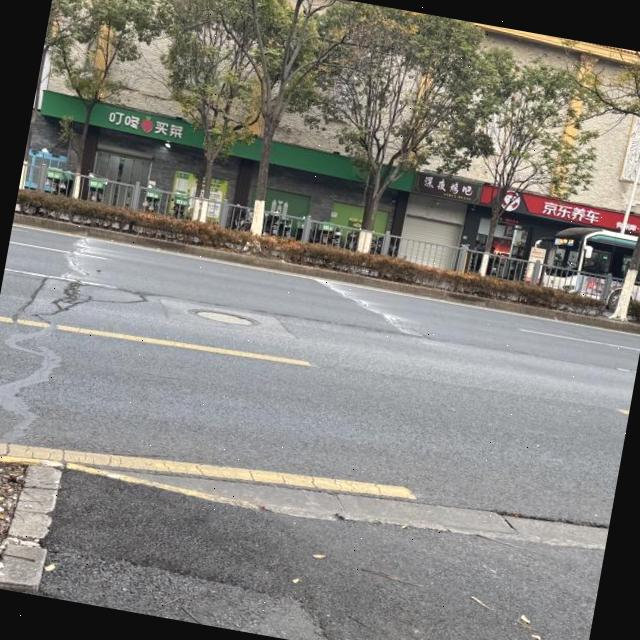curb: (12, 213, 640, 335), (0, 456, 604, 549), (0, 466, 61, 591)
